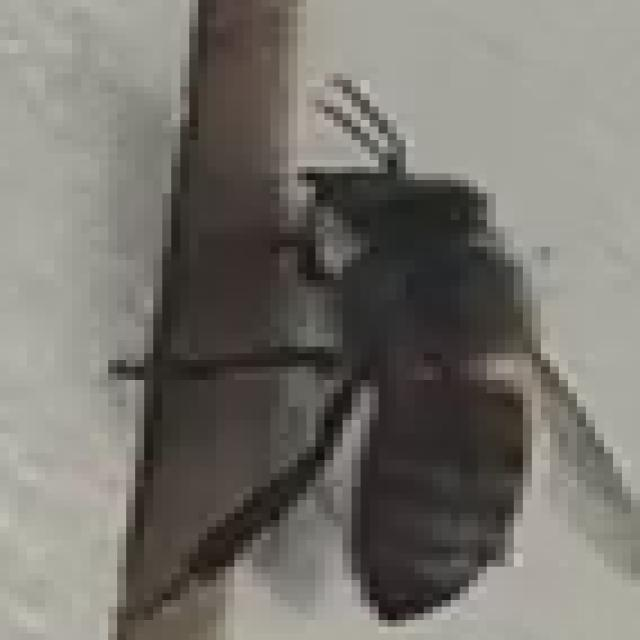honeybee: (111, 67, 640, 640)
